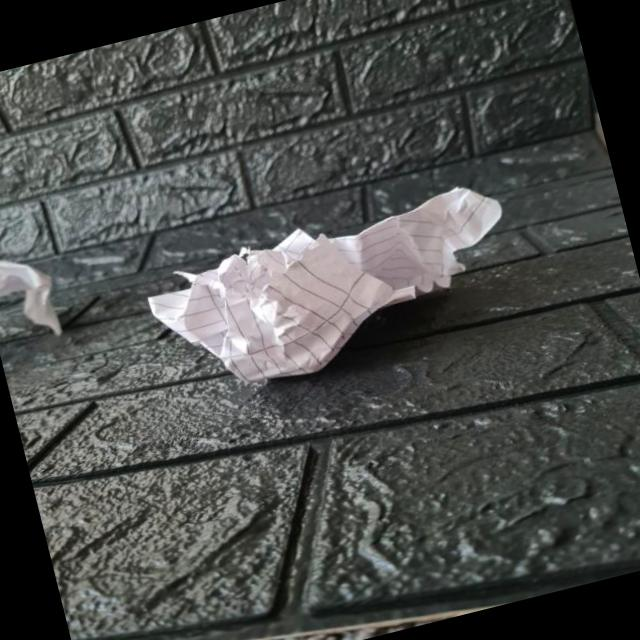cardboard paper: (146, 185, 498, 379), (0, 259, 58, 333)
